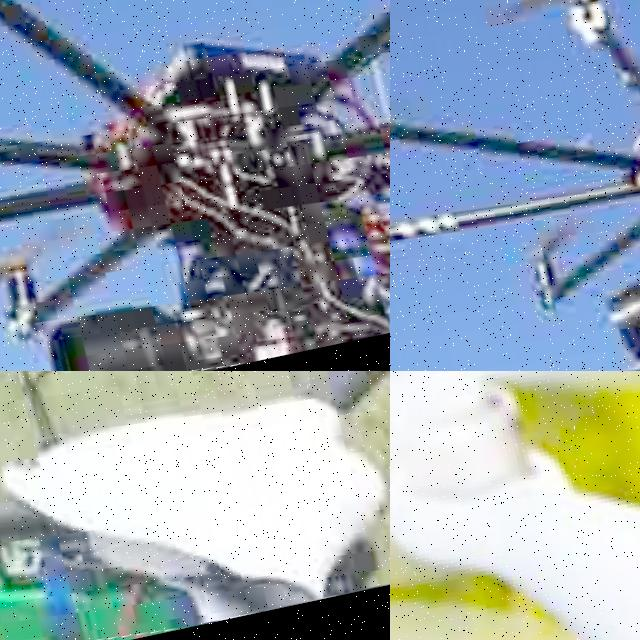0: (0, 0, 390, 371), (0, 371, 390, 640), (390, 0, 640, 371)
drone: (390, 371, 640, 640)
